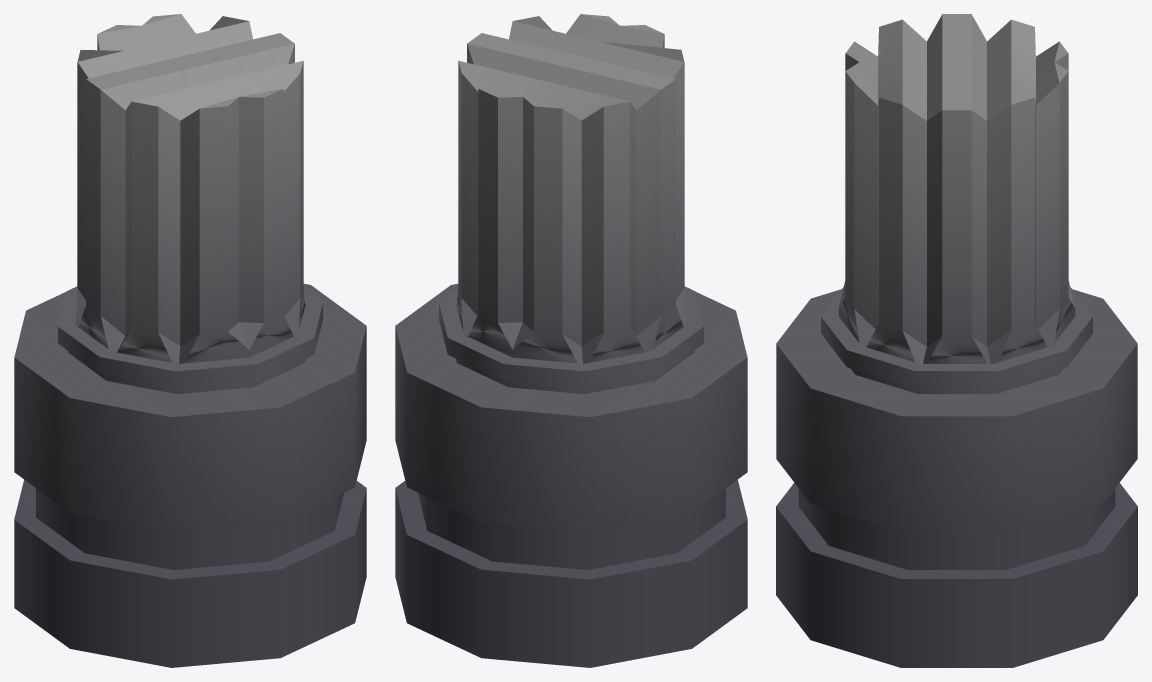
The model's file is Pantheon_ColumnaBig_002.fbx.
3 views of the same model, side by side, from view 1: azimuth 30°, elevation 25°; view 2: azimuth 150°, elevation 25°; view 3: azimuth 270°, elevation 25° (orthographic).
Visible parts, largest first — view 1: Pantheon_ColumnaBig_002; view 2: Pantheon_ColumnaBig_002; view 3: Pantheon_ColumnaBig_002.
Boxes of the visible parts, bbox=[...] form: Pantheon_ColumnaBig_002: bbox=[14, 14, 366, 667]; Pantheon_ColumnaBig_002: bbox=[395, 14, 747, 667]; Pantheon_ColumnaBig_002: bbox=[776, 14, 1137, 667].
Size of the model in its own units: 12.1 by 20.7 by 12.72.
